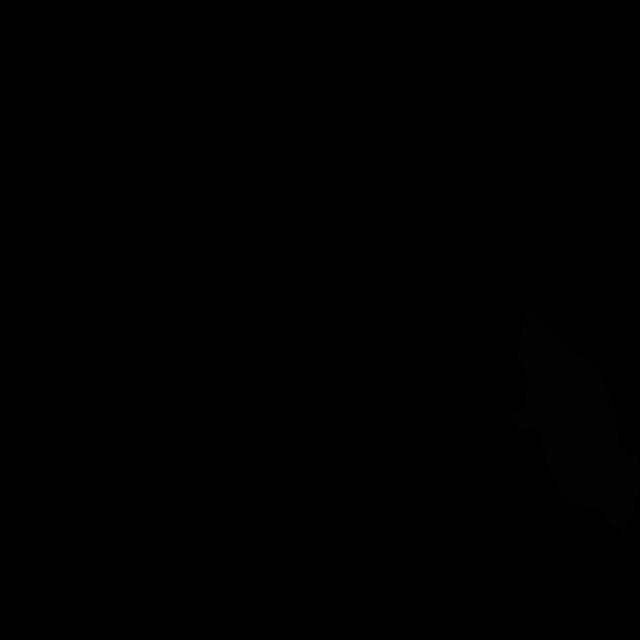cardboard: (509, 307, 640, 535)
